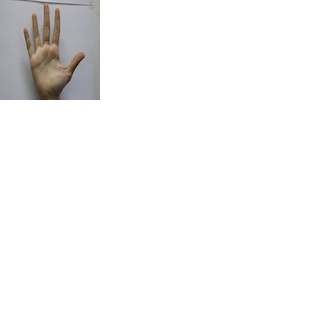paper: (13, 2, 86, 95)
